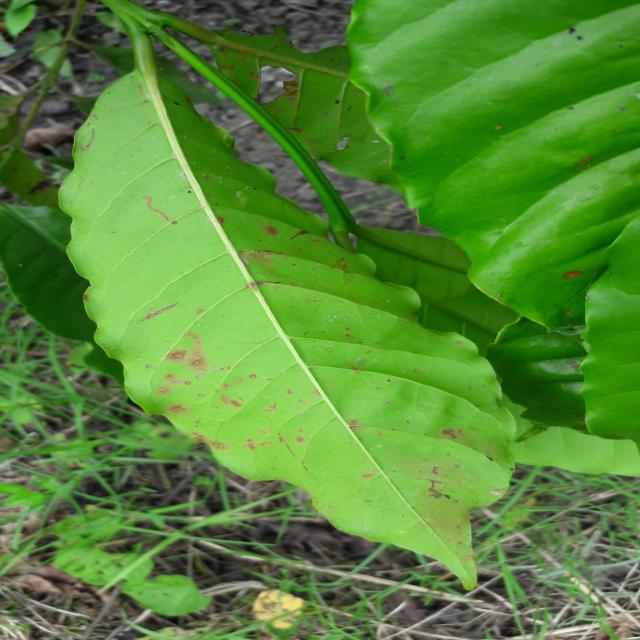Plaga-AranaRoja: (56, 68, 549, 593)
